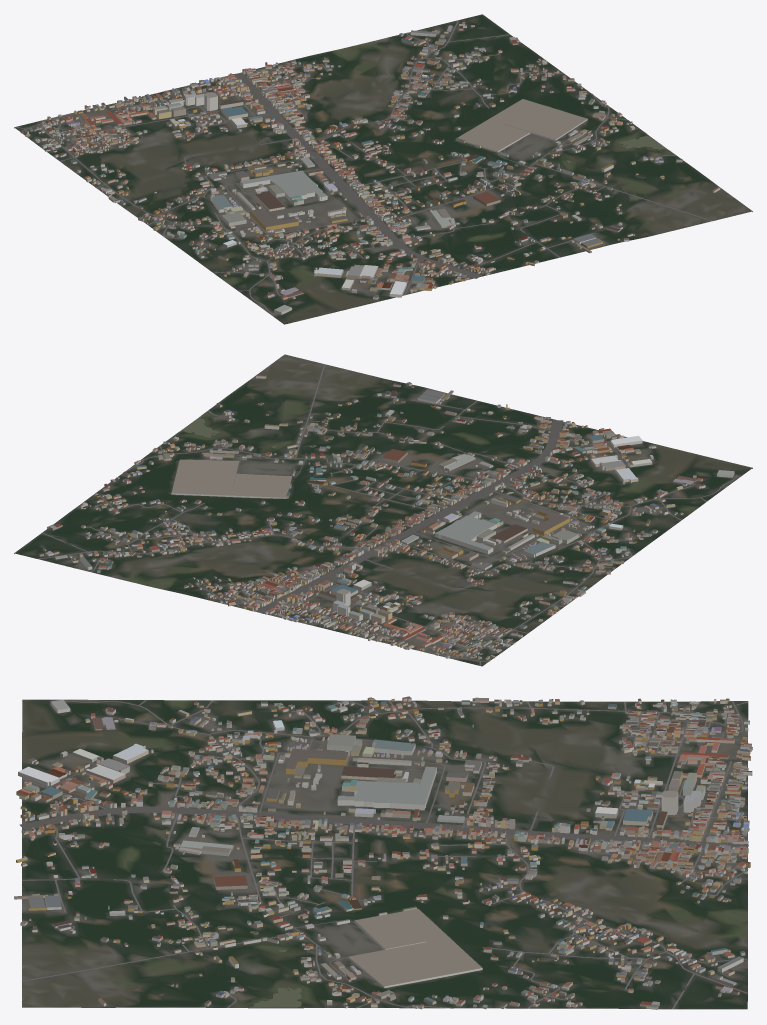
3 renders of one model, top to bottom at view 1: azimuth 30°, elevation 25°; view 2: azimuth 150°, elevation 25°; view 3: azimuth 270°, elevation 25°, orthographic. The views are drawn at different scales.
Visible parts, largest first — view 1: ground, buildings, roads; view 2: ground, buildings, roads; view 3: ground, buildings, roads, water.
Part boxes in pixels (<box>): ground: <box>14,14,752,324</box>; buildings: <box>20,20,720,314</box>; roads: <box>16,20,712,314</box>; ground: <box>14,354,752,666</box>; buildings: <box>39,375,734,661</box>; roads: <box>38,364,737,665</box>; ground: <box>22,699,748,1009</box>; buildings: <box>14,696,752,1009</box>; roads: <box>19,700,748,1009</box>; water: <box>249,931,301,1007</box>.
Size of the model in its own units: 1411 by 42.58 by 1427.
